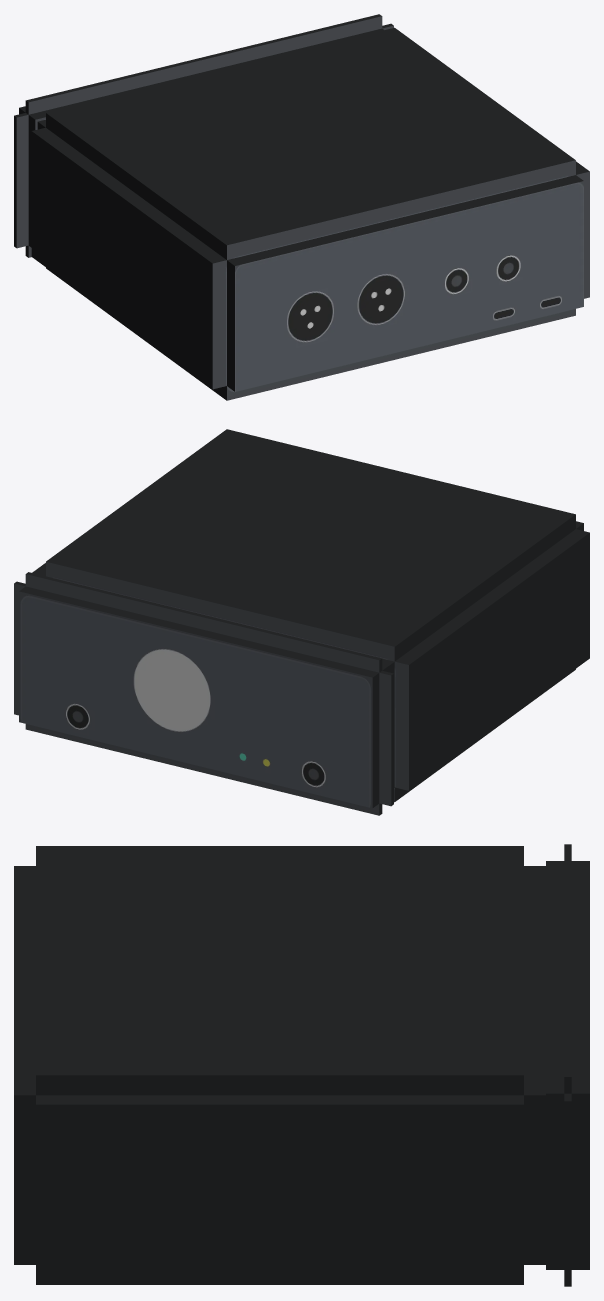
The model's file is ua-apollo-twin-x.glb.
The picture shows the model from 3 angles, top to bottom: view 1: azimuth 30°, elevation 25°; view 2: azimuth 150°, elevation 25°; view 3: azimuth 270°, elevation 25°; orthographic projection. The views are drawn at different scales.
Visible parts, largest first — view 1: ua-apollo-twin-x-body; view 2: ua-apollo-twin-x-body; view 3: ua-apollo-twin-x-body.
Part boxes in pixels (x1=…): ua-apollo-twin-x-body: x1=14, y1=14, x2=589, y2=400; ua-apollo-twin-x-body: x1=14, y1=429, x2=589, y2=815; ua-apollo-twin-x-body: x1=14, y1=844, x2=589, y2=1286.
Bounding box in the file's own units: 0.16 × 0.066 × 0.157.
1 material, 1 textured.
